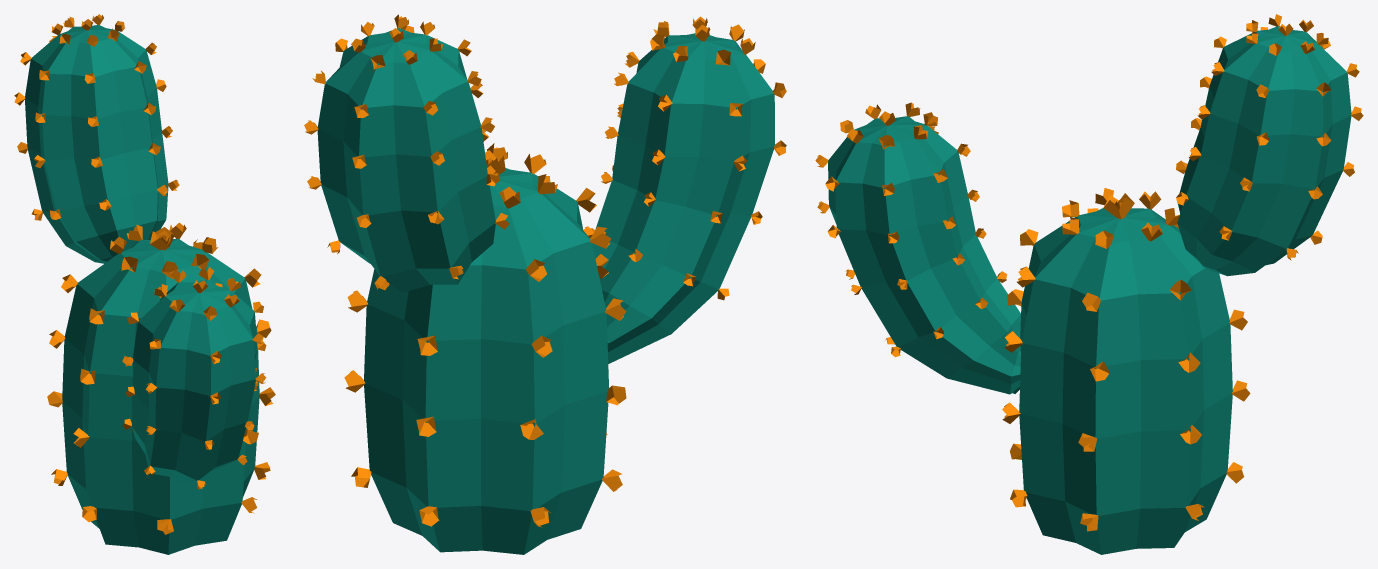
Rendered from cactusball04.fbx.
The picture shows the model from 3 angles, left to right: view 1: azimuth 30°, elevation 25°; view 2: azimuth 150°, elevation 25°; view 3: azimuth 270°, elevation 25°; orthographic projection. The views are drawn at different scales.
Visible parts, largest first — view 1: Sphere.002; view 2: Sphere.002; view 3: Sphere.002.
Boxes of the visible parts, x1,y1,x2,y2 form: Sphere.002: (14, 14, 275, 554); Sphere.002: (304, 14, 786, 554); Sphere.002: (815, 14, 1363, 554).
Size of the model in its own units: 68.56 by 129 by 130.
